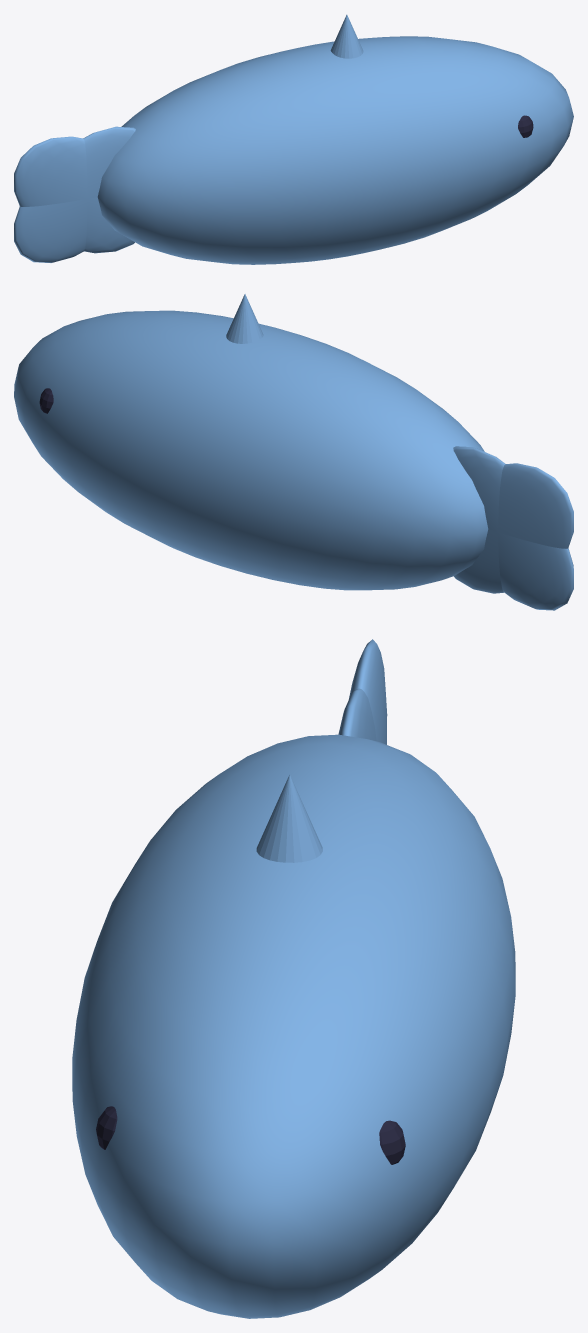
The model's file is whale.glb.
3 views of the same model, one above another, from view 1: azimuth 30°, elevation 25°; view 2: azimuth 150°, elevation 25°; view 3: azimuth 270°, elevation 25° (orthographic). The views are drawn at different scales.
Parts seen in each view (by area): view 1: Sphere, Sphere.002, Sphere.003, Cone; view 2: Sphere, Sphere.002, Sphere.003, Cone; view 3: Sphere, Cone, Sphere.002, Sphere.003, Sphere.004.
Part boxes in pixels (x1,y1,x2,y2): Sphere: (97,36,573,264); Sphere.002: (14,136,134,253); Sphere.003: (14,126,135,262); Cone: (330,14,363,58); Sphere: (14,310,488,590); Sphere.002: (454,463,573,593); Sphere.003: (453,446,573,610); Cone: (226,294,263,343); Sphere: (72,734,515,1318); Cone: (256,774,322,862); Sphere.002: (348,639,387,744); Sphere.003: (338,688,376,741); Sphere.004: (379,1120,405,1164).
Bounding box in the file's own units: 3.46 × 1.47 × 1.28.
